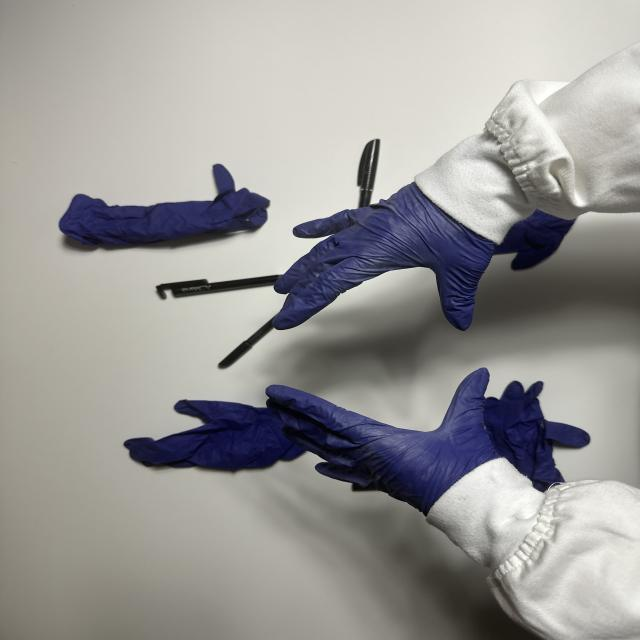gloves_contaminated: (266, 368, 500, 516), (274, 183, 494, 330)
